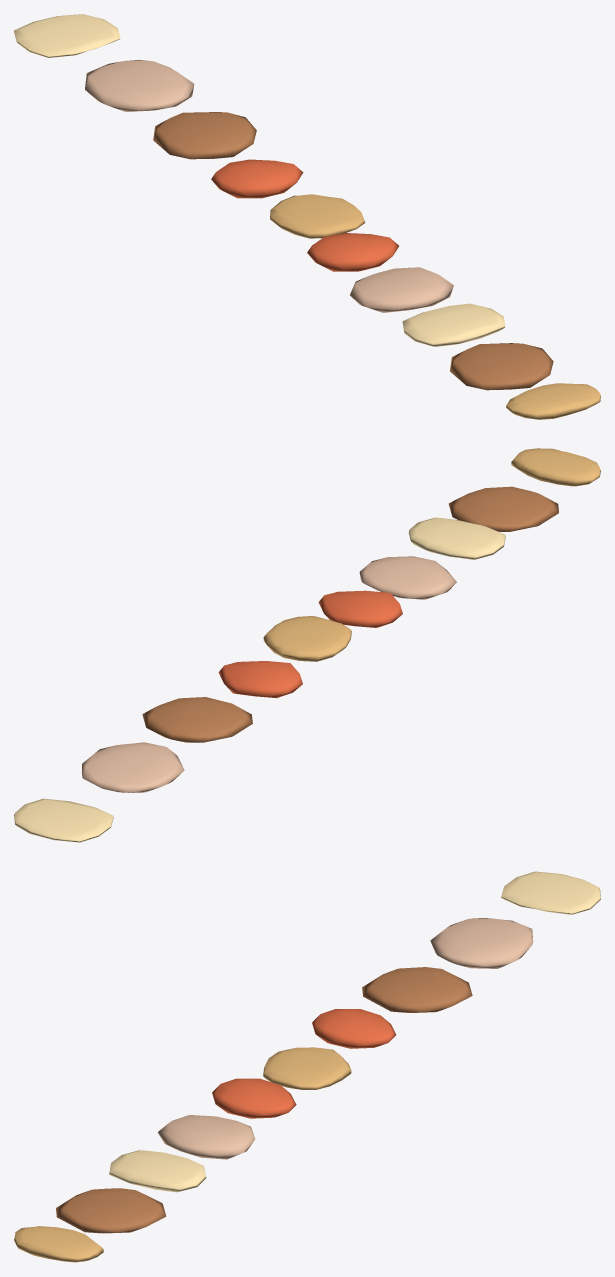
Rendered from RockSet.fbx.
3 views of the same model, one above another, from view 1: azimuth 30°, elevation 25°; view 2: azimuth 150°, elevation 25°; view 3: azimuth 330°, elevation 25° (orthographic). The views are drawn at different scales.
Parts seen in each view (by area): view 1: Icosphere.004, Icosphere.003, Icosphere, Icosphere.001, Cube.002, Cube, Cube.003, Icosphere.005, Icosphere.002, Cube.001; view 2: Icosphere.004, Icosphere.003, Icosphere, Cube.002, Icosphere.001, Cube.003, Cube, Icosphere.005, Icosphere.002, Cube.001; view 3: Icosphere.004, Icosphere.003, Icosphere, Icosphere.001, Cube.002, Cube, Cube.003, Icosphere.002, Icosphere.005, Cube.001.
Boxes of the visible parts, <box> form: Icosphere.004: <box>85,59,194,111</box>; Icosphere.003: <box>153,112,256,159</box>; Icosphere: <box>450,343,553,390</box>; Icosphere.001: <box>350,267,453,312</box>; Cube.002: <box>14,14,120,57</box>; Cube: <box>402,303,505,346</box>; Cube.003: <box>270,194,365,238</box>; Icosphere.005: <box>211,159,303,198</box>; Icosphere.002: <box>307,233,398,271</box>; Cube.001: <box>506,383,600,419</box>; Icosphere.004: <box>81,742,184,792</box>; Icosphere.003: <box>142,697,252,742</box>; Icosphere: <box>448,486,558,531</box>; Cube.002: <box>14,798,113,842</box>; Icosphere.001: <box>359,556,456,599</box>; Cube.003: <box>263,616,351,661</box>; Cube: <box>408,517,505,559</box>; Icosphere.005: <box>218,661,302,698</box>; Icosphere.002: <box>318,590,402,627</box>; Cube.001: <box>511,448,600,486</box>; Icosphere.004: <box>430,918,533,968</box>; Icosphere.003: <box>362,967,472,1012</box>; Icosphere: <box>56,1188,166,1233</box>; Icosphere.001: <box>158,1115,255,1159</box>; Cube.002: <box>501,871,600,914</box>; Cube: <box>109,1150,206,1192</box>; Cube.003: <box>263,1047,351,1089</box>; Icosphere.002: <box>212,1078,296,1118</box>; Icosphere.005: <box>312,1009,396,1048</box>; Cube.001: <box>14,1226,103,1262</box>.
Bounding box in the file's own units: 333 × 77.24 × 2976.
